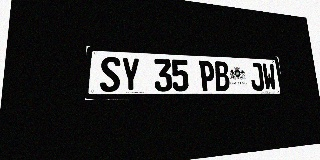3: (154, 59, 172, 92)
5: (171, 59, 189, 91)
B: (214, 61, 230, 91)
J: (249, 63, 265, 91)
P: (199, 60, 216, 91)
S: (100, 56, 120, 92)
W: (262, 63, 277, 91)
Y: (121, 57, 140, 92)
